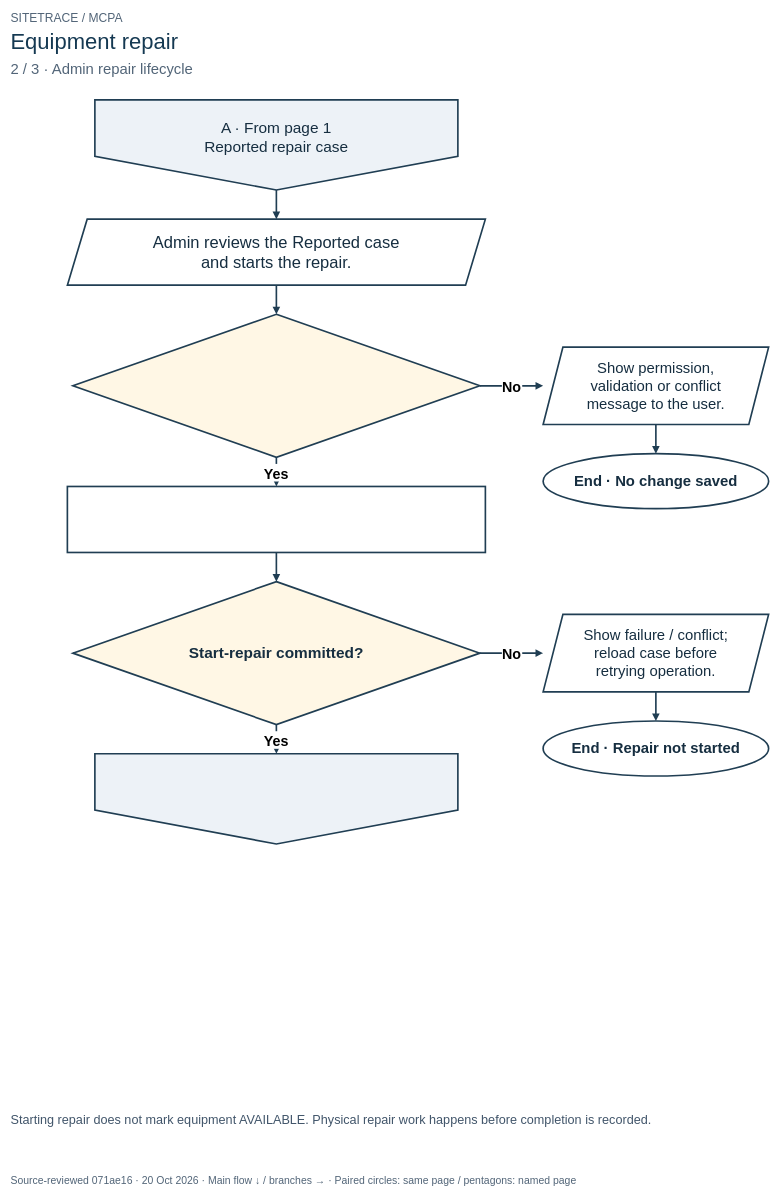
Some shapes in this 779 by 1198 pixel diagram are drawn without their labels. The box of each missing label's shape, as (x1, y1, x2, y2) in pixels:
Admin and Reported case still valid?: (72, 313, 480, 458)
B · To page 3 Complete the repair later: (94, 753, 458, 845)
Save case as Under repair. Equipment remains in REPAIR status.: (66, 485, 486, 553)
